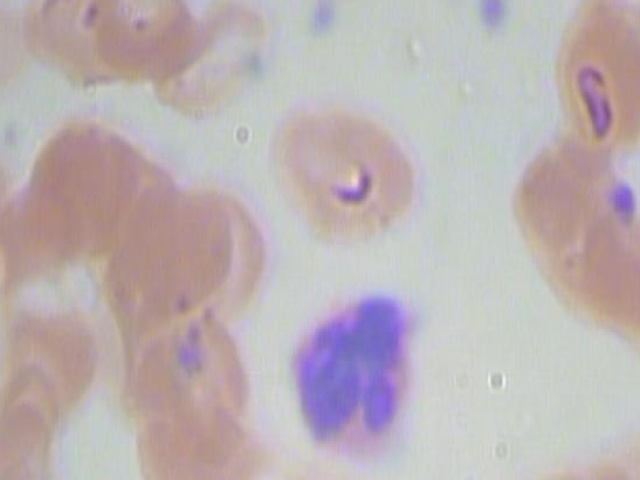Platelets: (304, 0, 350, 50), (468, 0, 514, 47)
RBC: (266, 92, 418, 250), (20, 111, 139, 270), (154, 0, 286, 124), (548, 0, 640, 166), (121, 186, 232, 318), (91, 0, 202, 83), (537, 452, 640, 480), (269, 457, 380, 480), (475, 466, 586, 480), (275, 0, 406, 2)
WBC: (278, 277, 423, 477)
